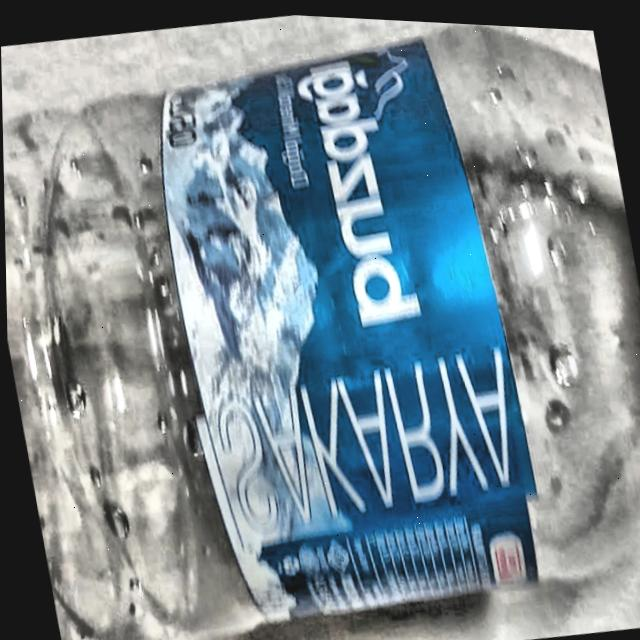plastic: (2, 18, 640, 640)
